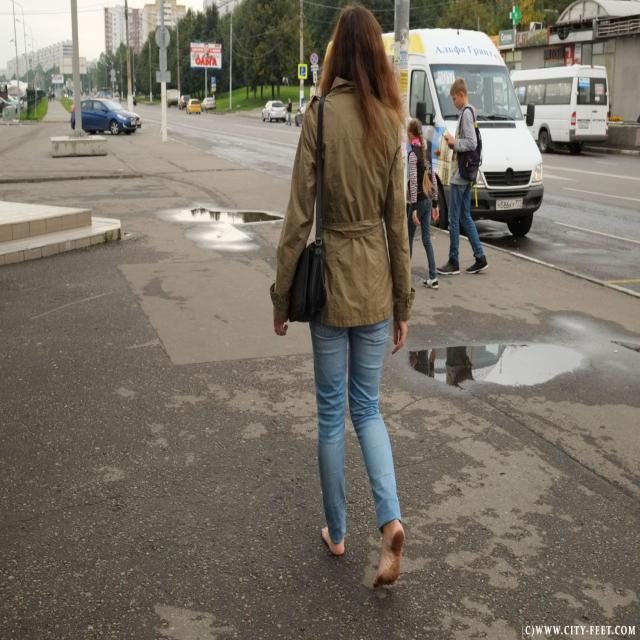Barefoots: (373, 520, 405, 588), (322, 526, 344, 554)
